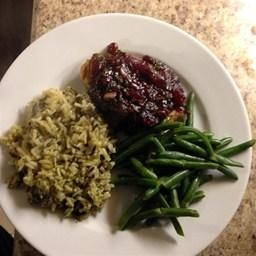background: (0, 16, 102, 94)
